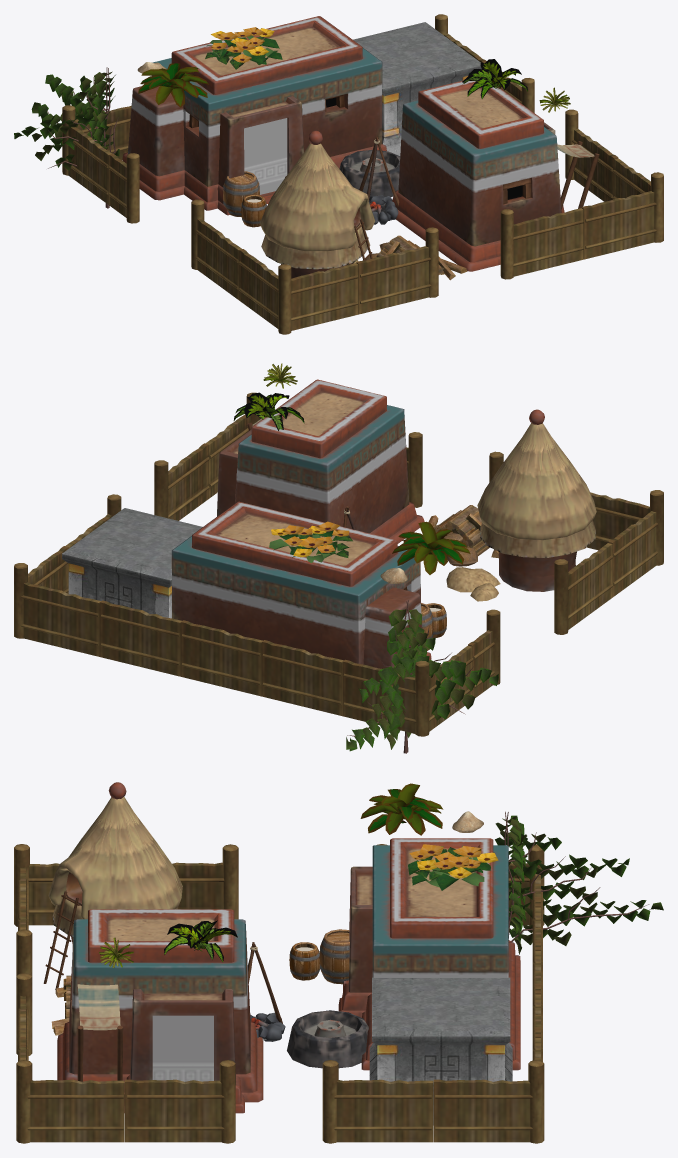
The model's file is 9-towncenter.glb.
3 renders of one model, top to bottom at view 1: azimuth 30°, elevation 25°; view 2: azimuth 150°, elevation 25°; view 3: azimuth 270°, elevation 25°, orthographic. The views are drawn at different scales.
Bounding box in the file's own units: 11.75 × 4.75 × 12.64.
14 materials, 13 textured.
